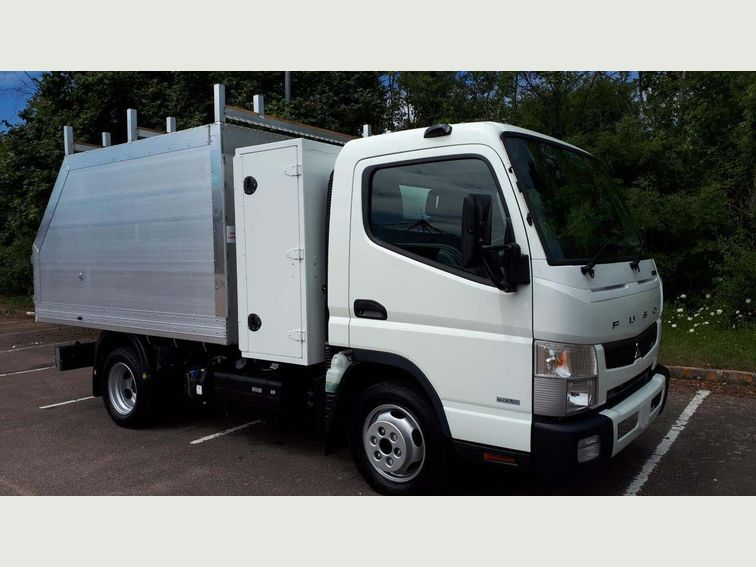Semi: (31, 83, 667, 496)
